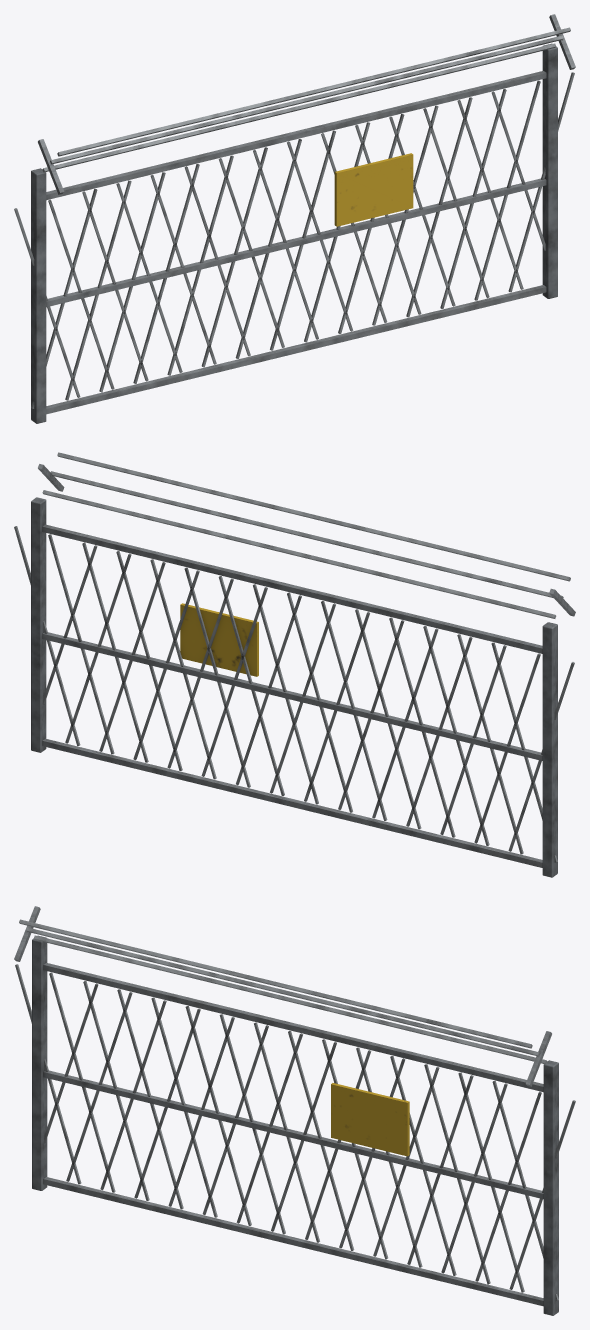
Rendered from city_yard_fence.glb.
3 renders of one model, top to bottom at view 1: azimuth 30°, elevation 25°; view 2: azimuth 150°, elevation 25°; view 3: azimuth 330°, elevation 25°, orthographic.
Parts seen in each view (by area): view 1: city_yard_fence; view 2: city_yard_fence; view 3: city_yard_fence.
Boxes of the visible parts, <box> form: city_yard_fence: <box>14,14,575,423</box>; city_yard_fence: <box>14,452,575,877</box>; city_yard_fence: <box>14,906,575,1315</box>.
Bounding box in the file's own units: 6.57 × 3.18 × 0.5398.
3 materials, 3 textured.
